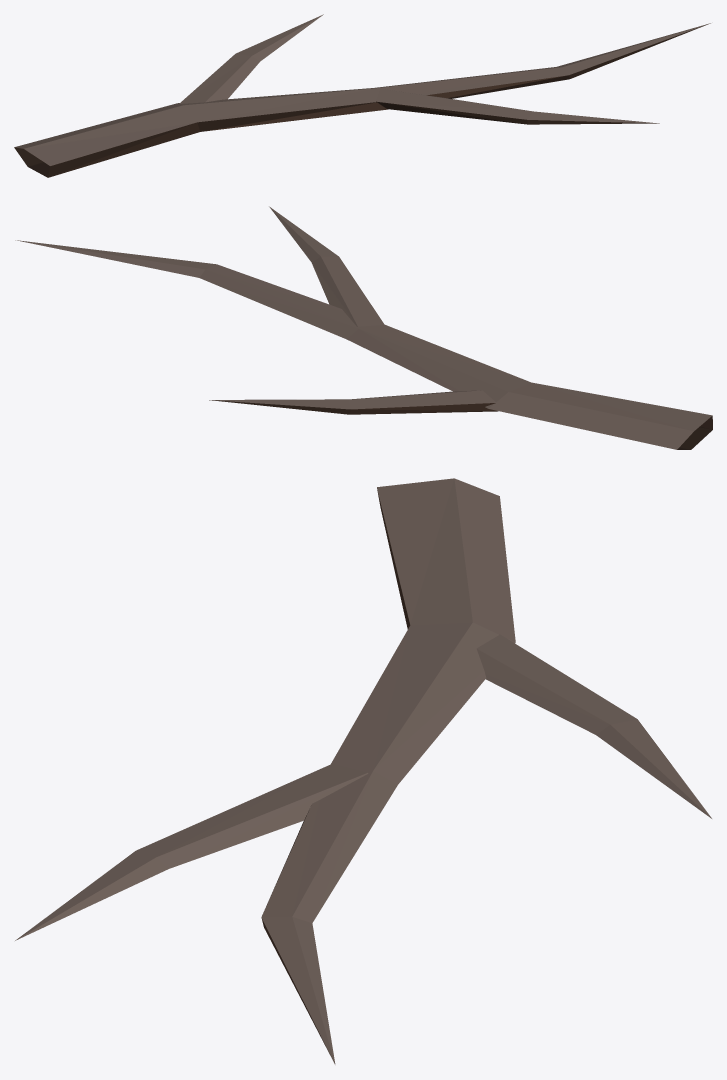
Rendered from SM_Arena_RootFlat_A.fbx.
3 views of the same model, one above another, from view 1: azimuth 30°, elevation 25°; view 2: azimuth 150°, elevation 25°; view 3: azimuth 270°, elevation 25° (orthographic). The views are drawn at different scales.
Visible parts, largest first — view 1: SM_Arena_RootFlat_A; view 2: SM_Arena_RootFlat_A; view 3: SM_Arena_RootFlat_A.
Part boxes in pixels (<box>): SM_Arena_RootFlat_A: <box>14,14,710,177</box>; SM_Arena_RootFlat_A: <box>15,206,712,449</box>; SM_Arena_RootFlat_A: <box>15,478,711,1064</box>.
Size of the model in its own units: 3.21 by 0.0861 by 1.66.
